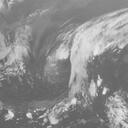cyclone: (47, 32, 99, 91)
